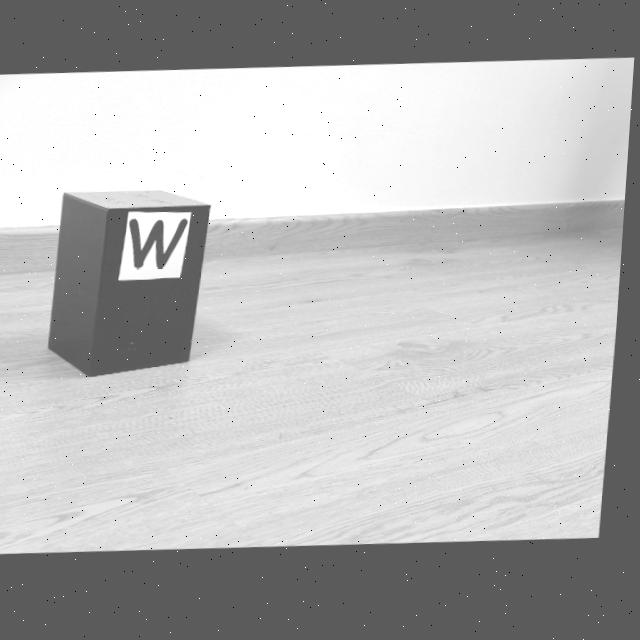W: (132, 220, 190, 270)
